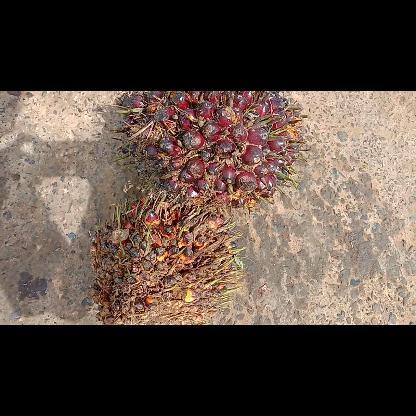Kurang masak: (110, 90, 310, 214)
TBS abnormal: (89, 194, 246, 324)
